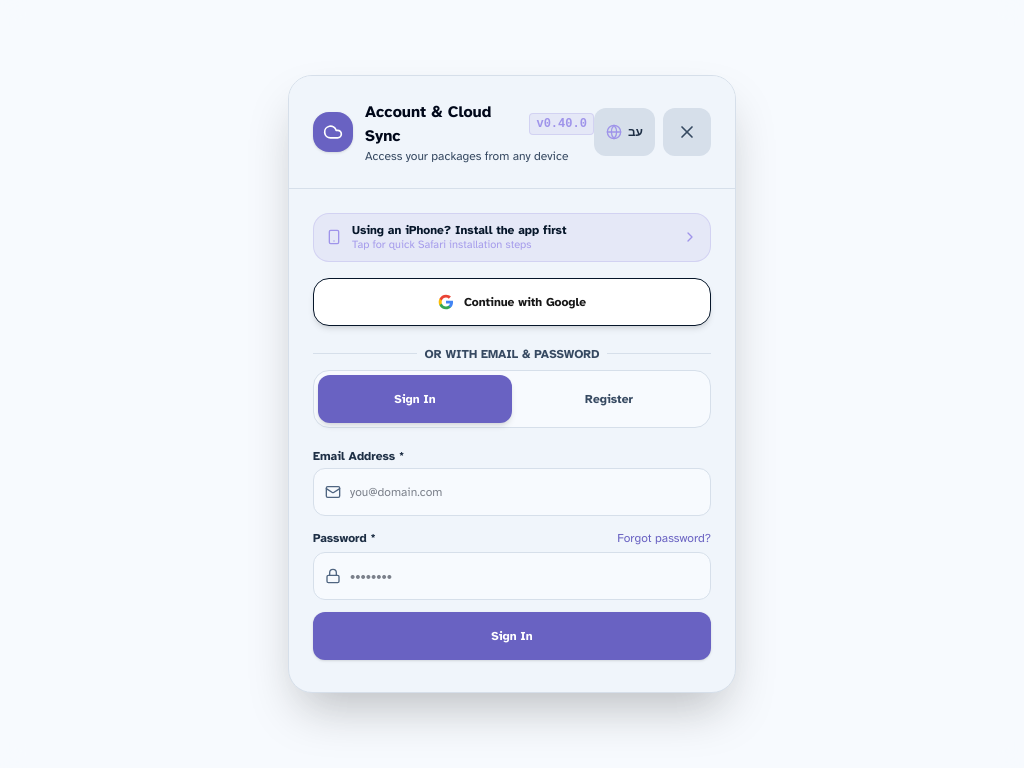
it: AuthModal (rendered) › enforces the register tab's stronger password rules before submitting
Click the button "Register". click: (609, 399)
box: [512,375,706,423]
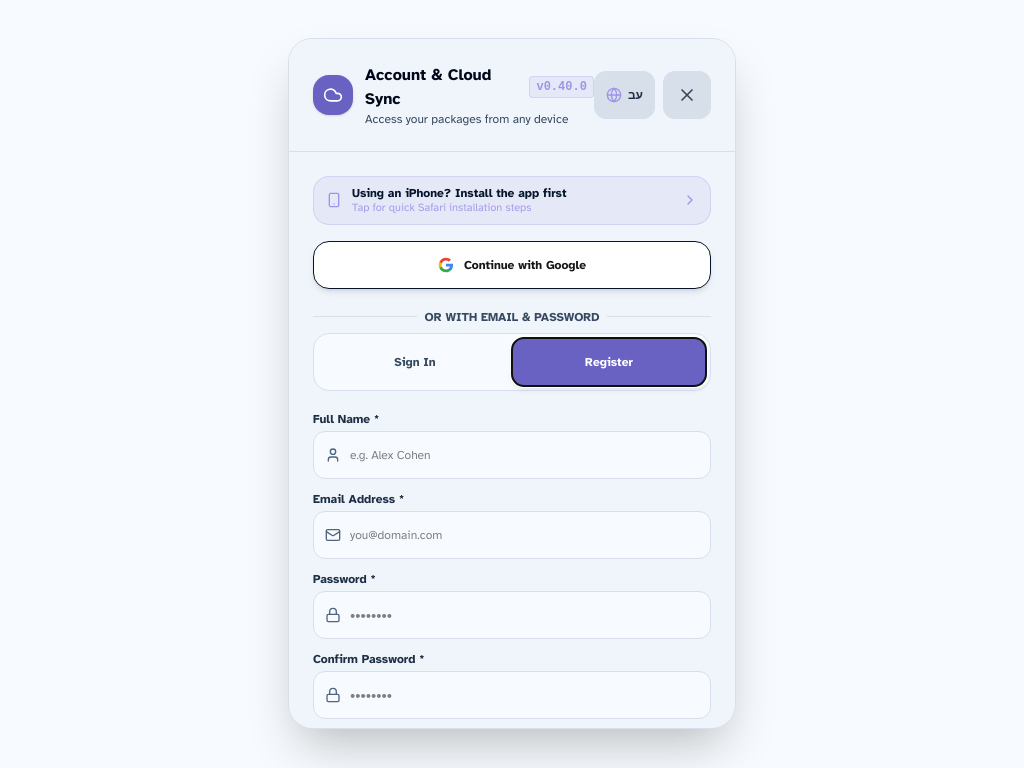
Type "Alex Cohen" into the field with placeholder "e.g. Alex Cohen". click: (512, 455)
box: [313,431,711,479]
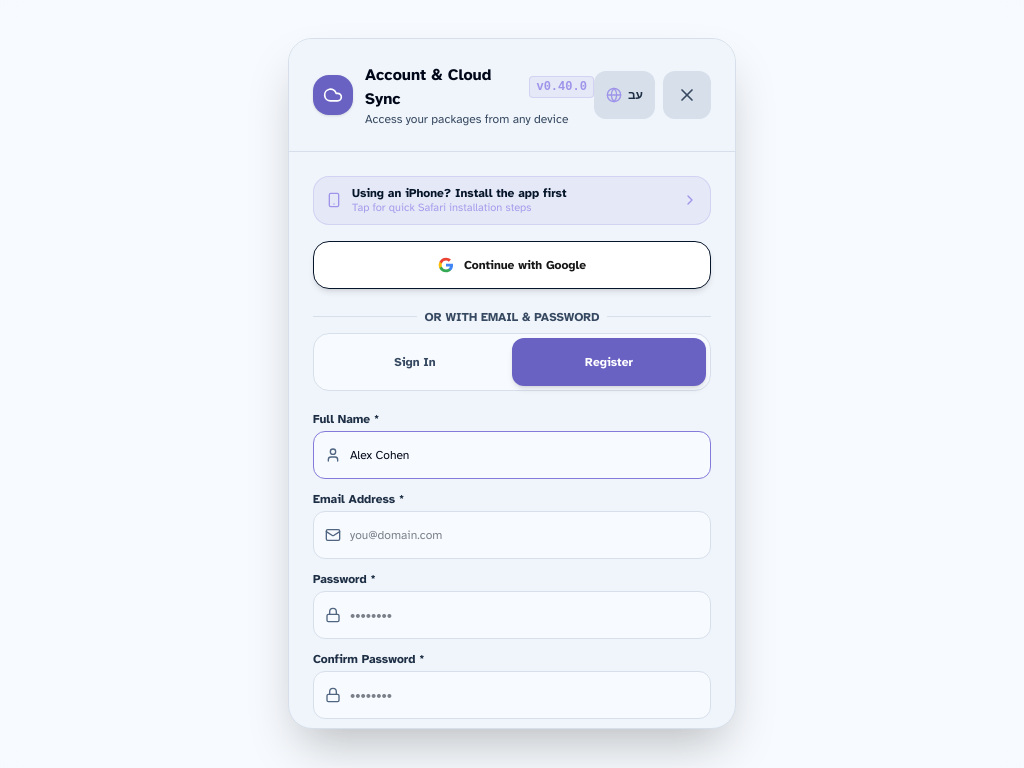
Type "alex@example.com" into the field with placeholder "you@domain.com". click: (512, 535)
box: [313,511,711,559]
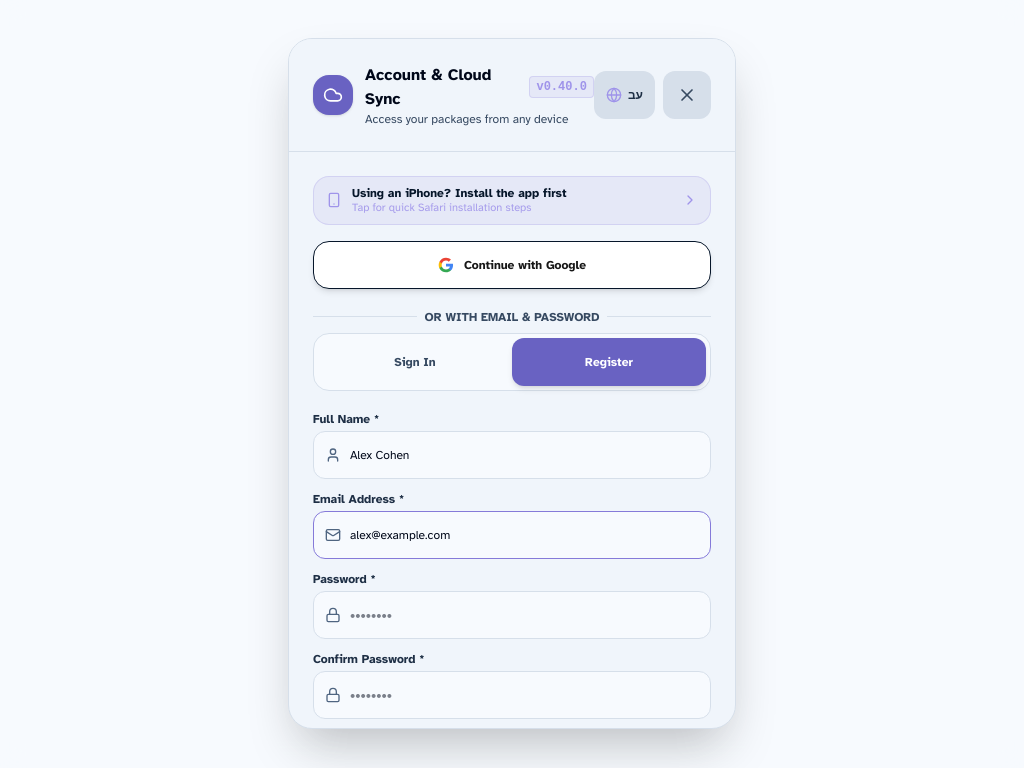
Type "onlyletters" into the 1st password field with placeholder "••••••••". click: (512, 615)
box: [313,591,711,639]
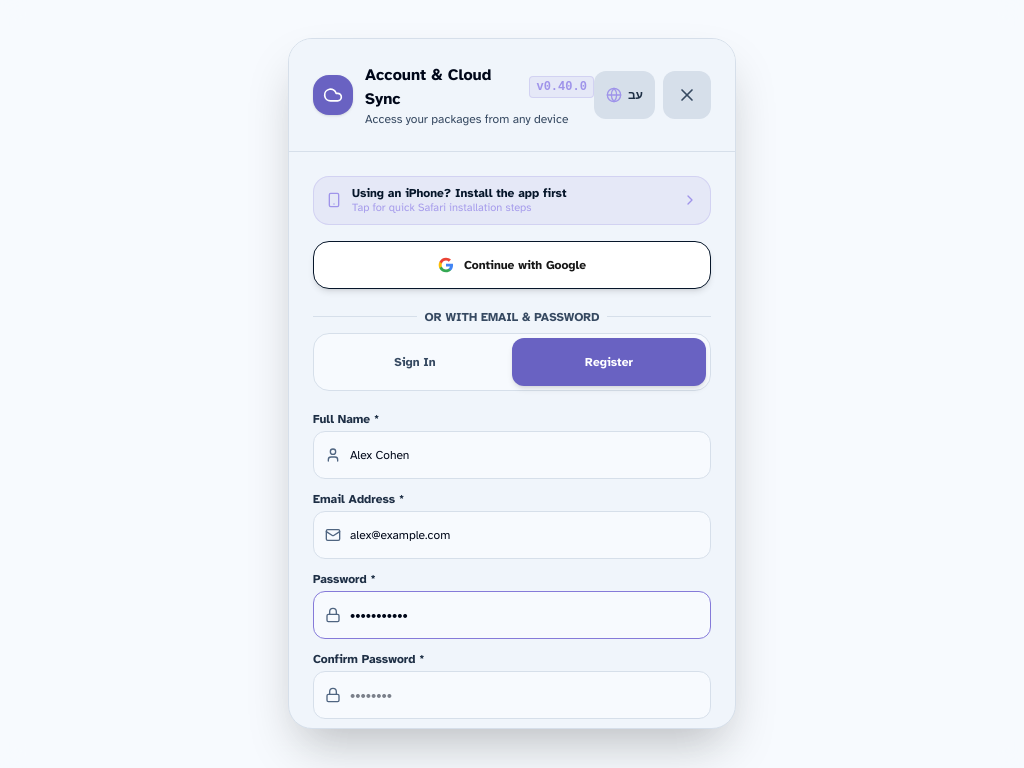
Type "onlyletters" into the password field with placeholder "••••••••". click: (512, 695)
box: [313,671,711,719]
(page scrolled)
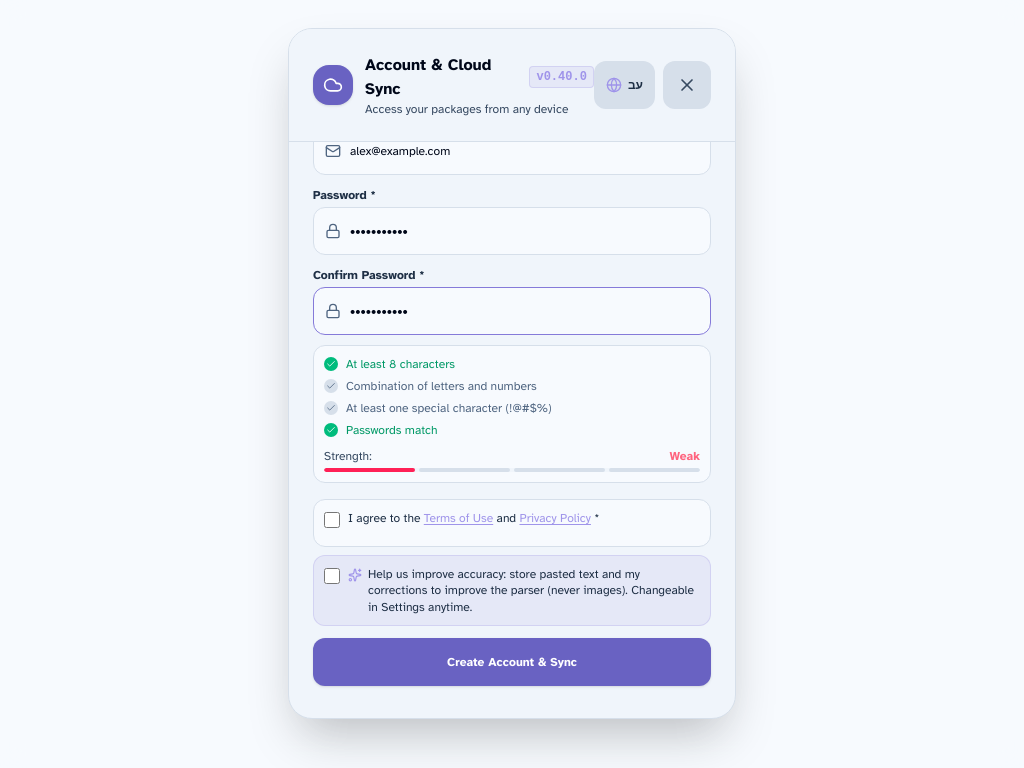
Click the button "Create Account & Sync". click: (512, 663)
box: [313,639,711,687]
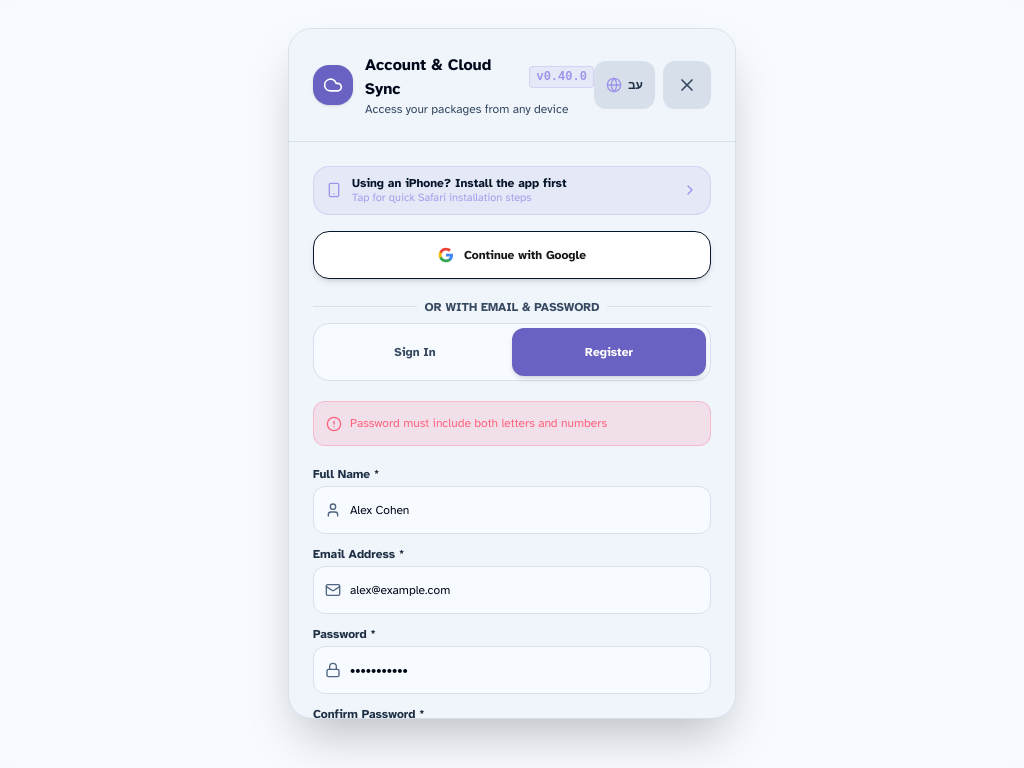
Expected: the text "Password must include both letters and numbers" is shown, [350,414,607,434]
